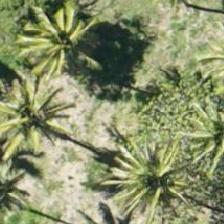coconut_tree: (127, 141, 217, 223), (16, 0, 106, 72), (0, 75, 56, 165)
